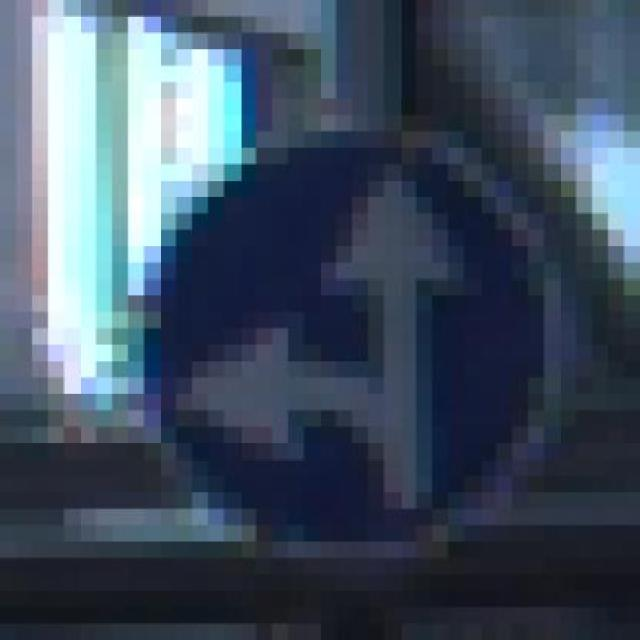Go straight or turn left: (95, 99, 560, 558)
